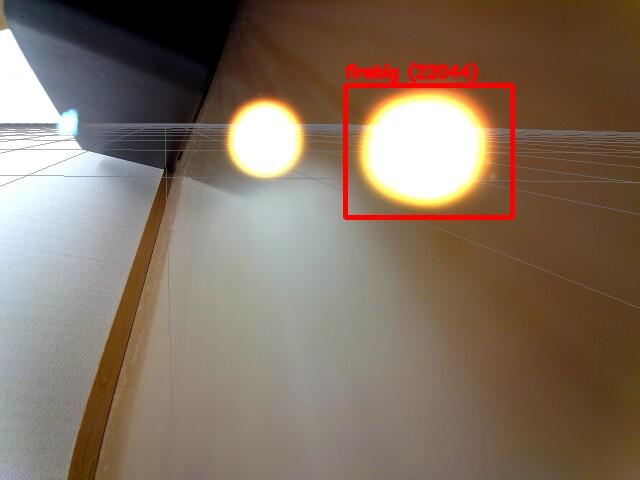firebig: (345, 85, 512, 217)
